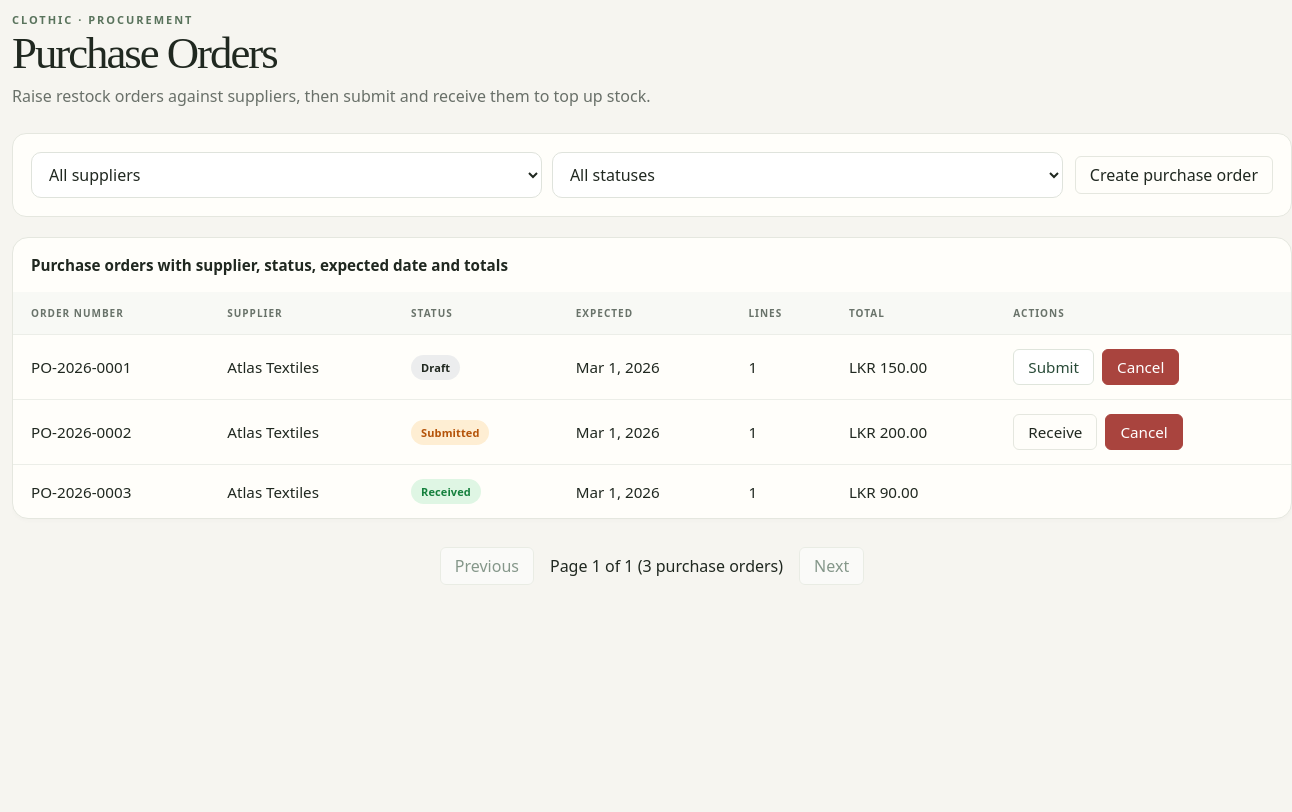
Test: PurchaseOrdersPage › receives a submitted purchase order after confirmation
Click the button with aria-label "Receive PO-2026-0002".
click(1055, 432)  # box [1013,414,1098,450]
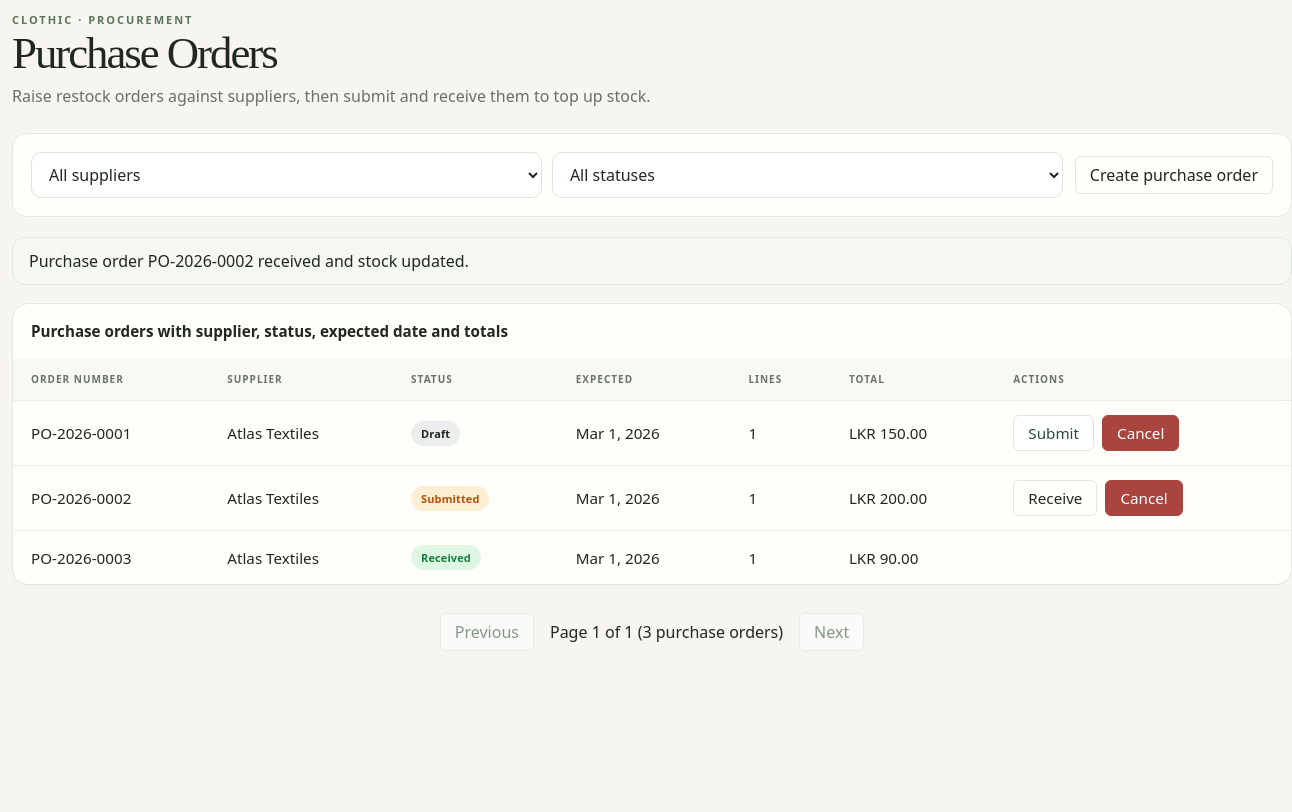
Expected: the text "Purchase order PO-2026-0002 received and stock updated." is shown, [12,237,1291,285]
